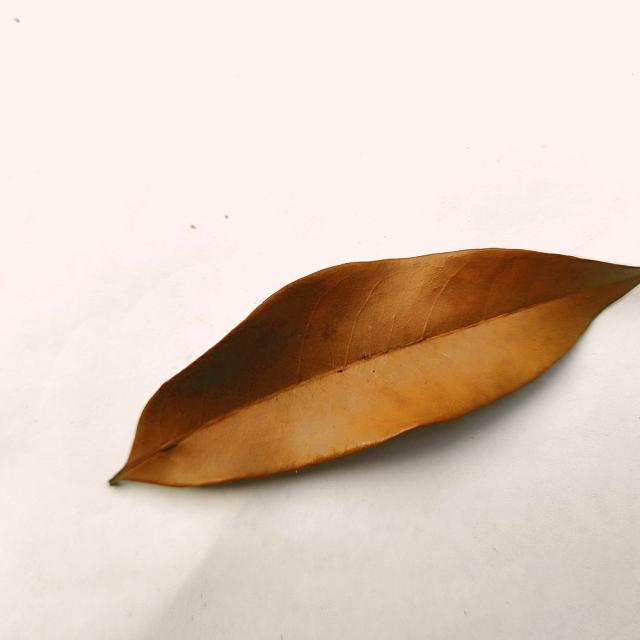Dry_Leaf-Lychee: (111, 248, 639, 490)
